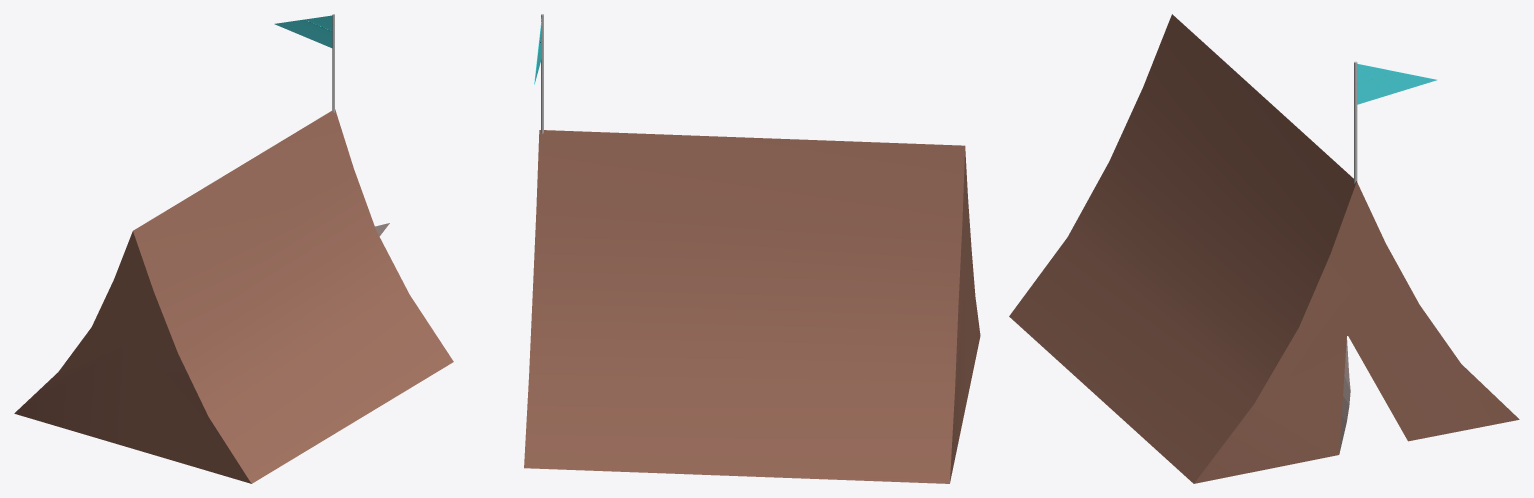
Rendered from prop-camping-tent-1.glb.
The picture shows the model from 3 angles, left to right: view 1: azimuth 30°, elevation 25°; view 2: azimuth 150°, elevation 25°; view 3: azimuth 270°, elevation 25°; orthographic projection. The views are drawn at different scales.
Visible parts, largest first — view 1: Box001, Box002; view 2: Box001; view 3: Box001, Box002.
Part boxes in pixels (x1,y1,x2,y2): Box001: (14, 109, 453, 483); Box002: (274, 15, 332, 47); Box001: (524, 130, 980, 483); Box001: (1009, 14, 1519, 483); Box002: (1357, 64, 1436, 104).
Bounding box in the file's own units: 405010 × 316453 × 377351.
